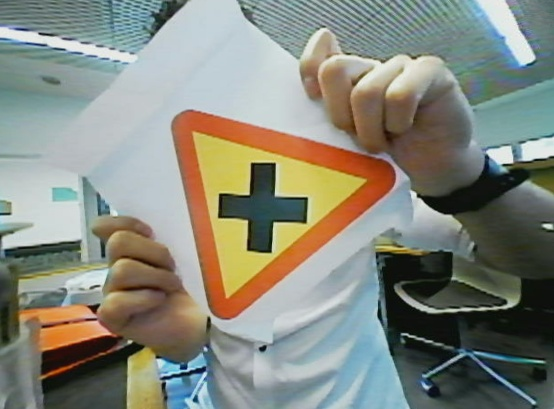junction: (169, 106, 399, 329)
